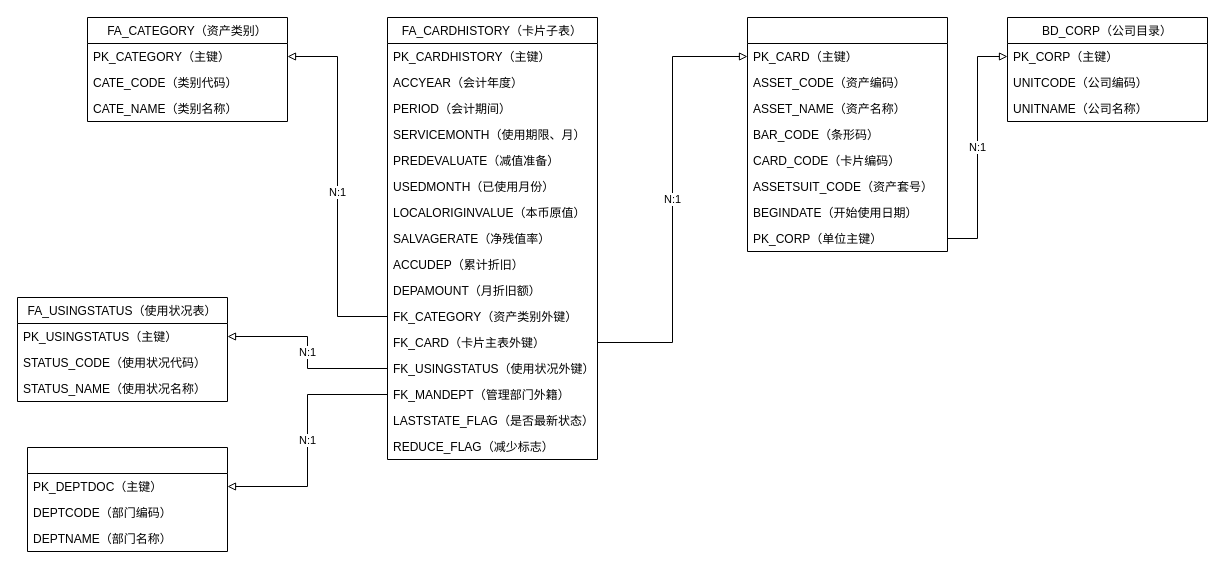
This 1225x572 diagram has some shape labels left out. The shapes that lost their labels are listed below. From the top down, each one's box as (x1, y1, x2, y2) in pixels, then its label:
(746, 16, 948, 252): FA_CARD（卡片主表）
(26, 446, 228, 552): BD_DEPTDOC（部门档案）
